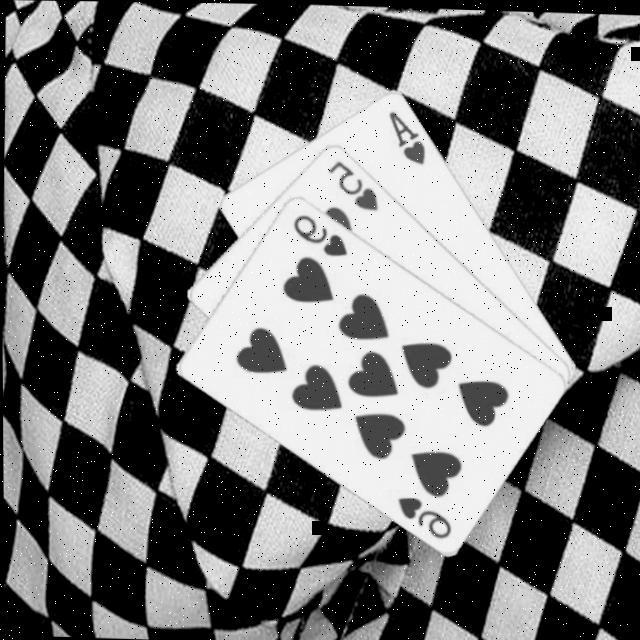5H: (326, 154, 382, 212)
9H: (290, 207, 352, 257), (394, 490, 455, 540)
AH: (386, 104, 432, 166)
